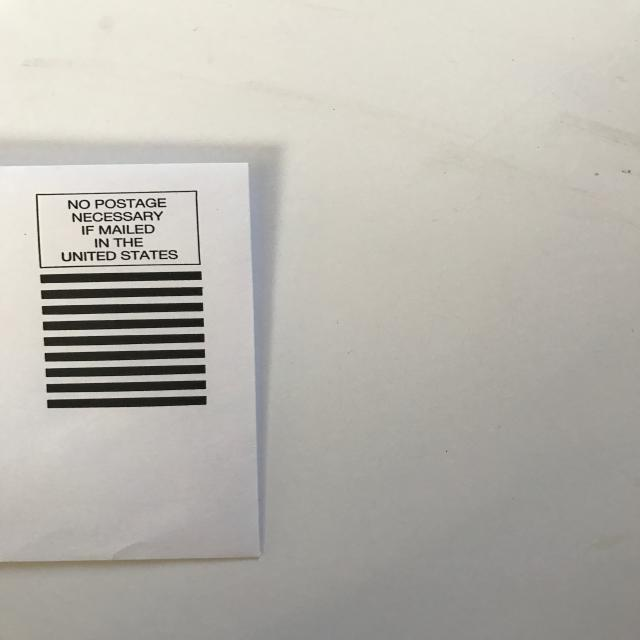paper: (2, 161, 268, 563)
